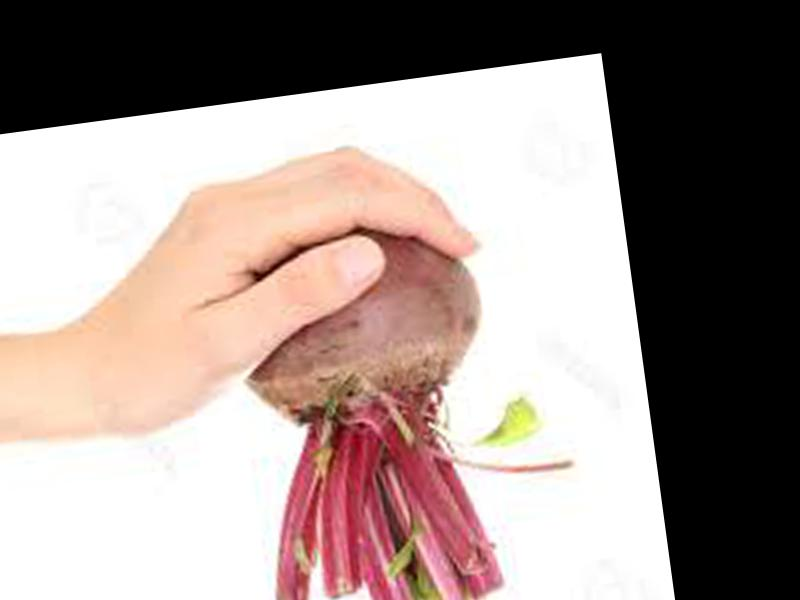Beet: (228, 202, 593, 600)
